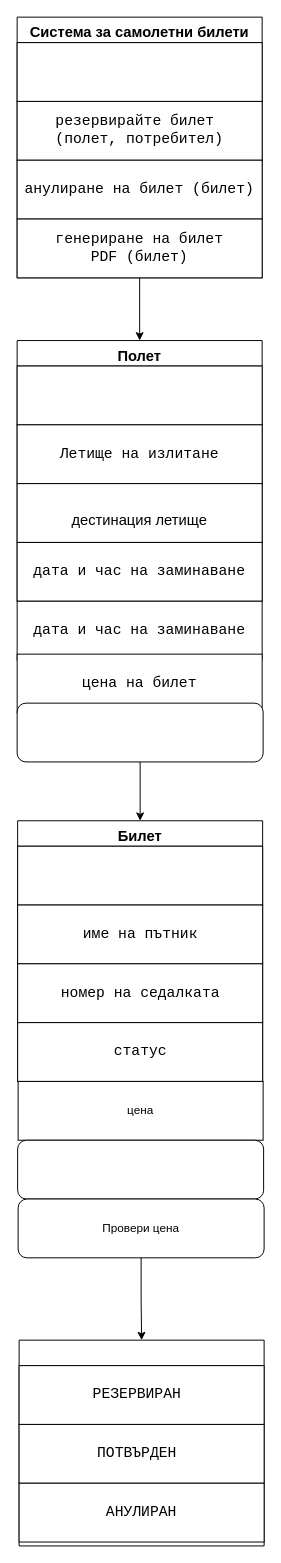
The diagram is 281 pixels wide and 1563 high, and some of its shapes have lost their labels. The shapes that lost their labels are listed below. From the top down, each one's box as (x1, y1, x2, y2) in pixels, then its label:
(16, 42, 262, 101): търсене на полети (филтри)
(16, 365, 262, 425): номер на полета
(16, 702, 263, 762): Провери наличността
(17, 845, 263, 905): номер на билет
(17, 1139, 264, 1199): Провери статус
(18, 1339, 264, 1546): Статус на билет
